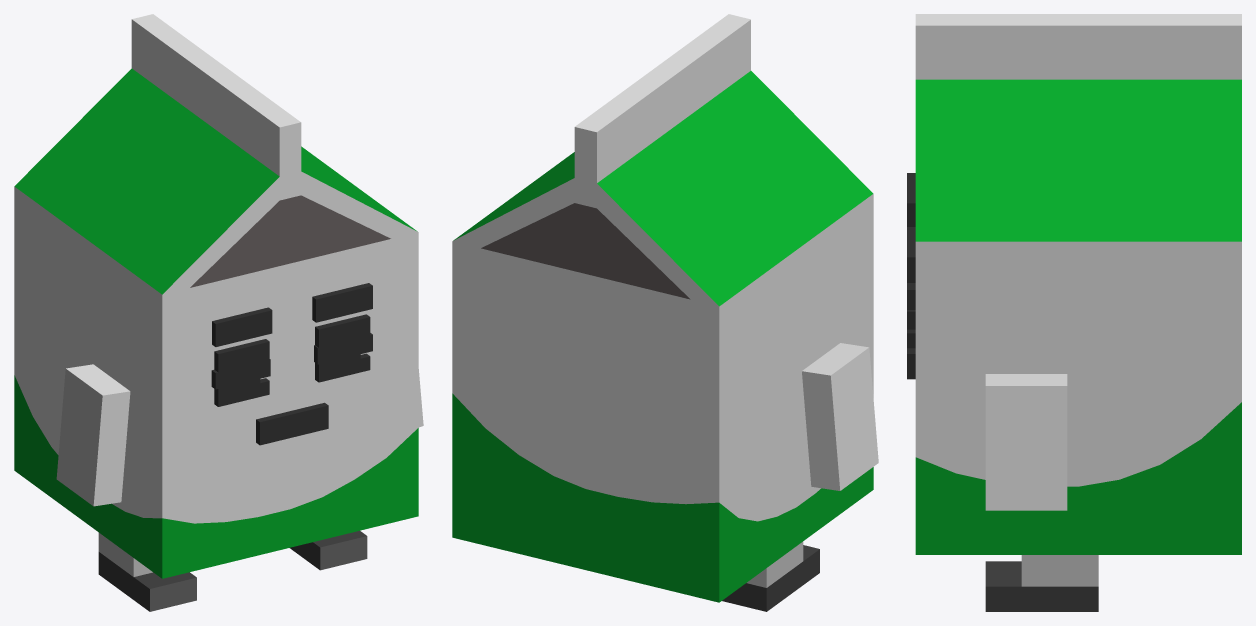
3 views of the same model, side by side, from view 1: azimuth 30°, elevation 25°; view 2: azimuth 150°, elevation 25°; view 3: azimuth 270°, elevation 25° (orthographic). The views are drawn at different scales.
Visible parts, largest first — view 1: Ch_128, Ch_128_Hand_L, Ch_128_Leg_L, Ch_128_Eye_03_L, Ch_128_Eye_03_R, Ch_128_Leg_R; view 2: Ch_128, Ch_128_Hand_L, Ch_128_Leg_L; view 3: Ch_128, Ch_128_Hand_R, Ch_128_Leg_R.
Boxes of the visible parts, x1=… form: Ch_128: x1=14, y1=14, x2=418, y2=578; Ch_128_Hand_L: x1=56, y1=364, x2=130, y2=506; Ch_128_Leg_L: x1=98, y1=532, x2=196, y2=611; Ch_128_Eye_03_L: x1=214, y1=339, x2=269, y2=406; Ch_128_Eye_03_R: x1=315, y1=314, x2=370, y2=382; Ch_128_Leg_R: x1=290, y1=530, x2=367, y2=570; Ch_128: x1=452, y1=14, x2=873, y2=602; Ch_128_Hand_L: x1=802, y1=343, x2=878, y2=490; Ch_128_Leg_L: x1=722, y1=541, x2=819, y2=611; Ch_128: x1=907, y1=14, x2=1241, y2=554; Ch_128_Hand_R: x1=985, y1=374, x2=1067, y2=510; Ch_128_Leg_R: x1=985, y1=555, x2=1098, y2=611.
Size of the model in its own units: 8.9 by 12.46 by 7.09.
